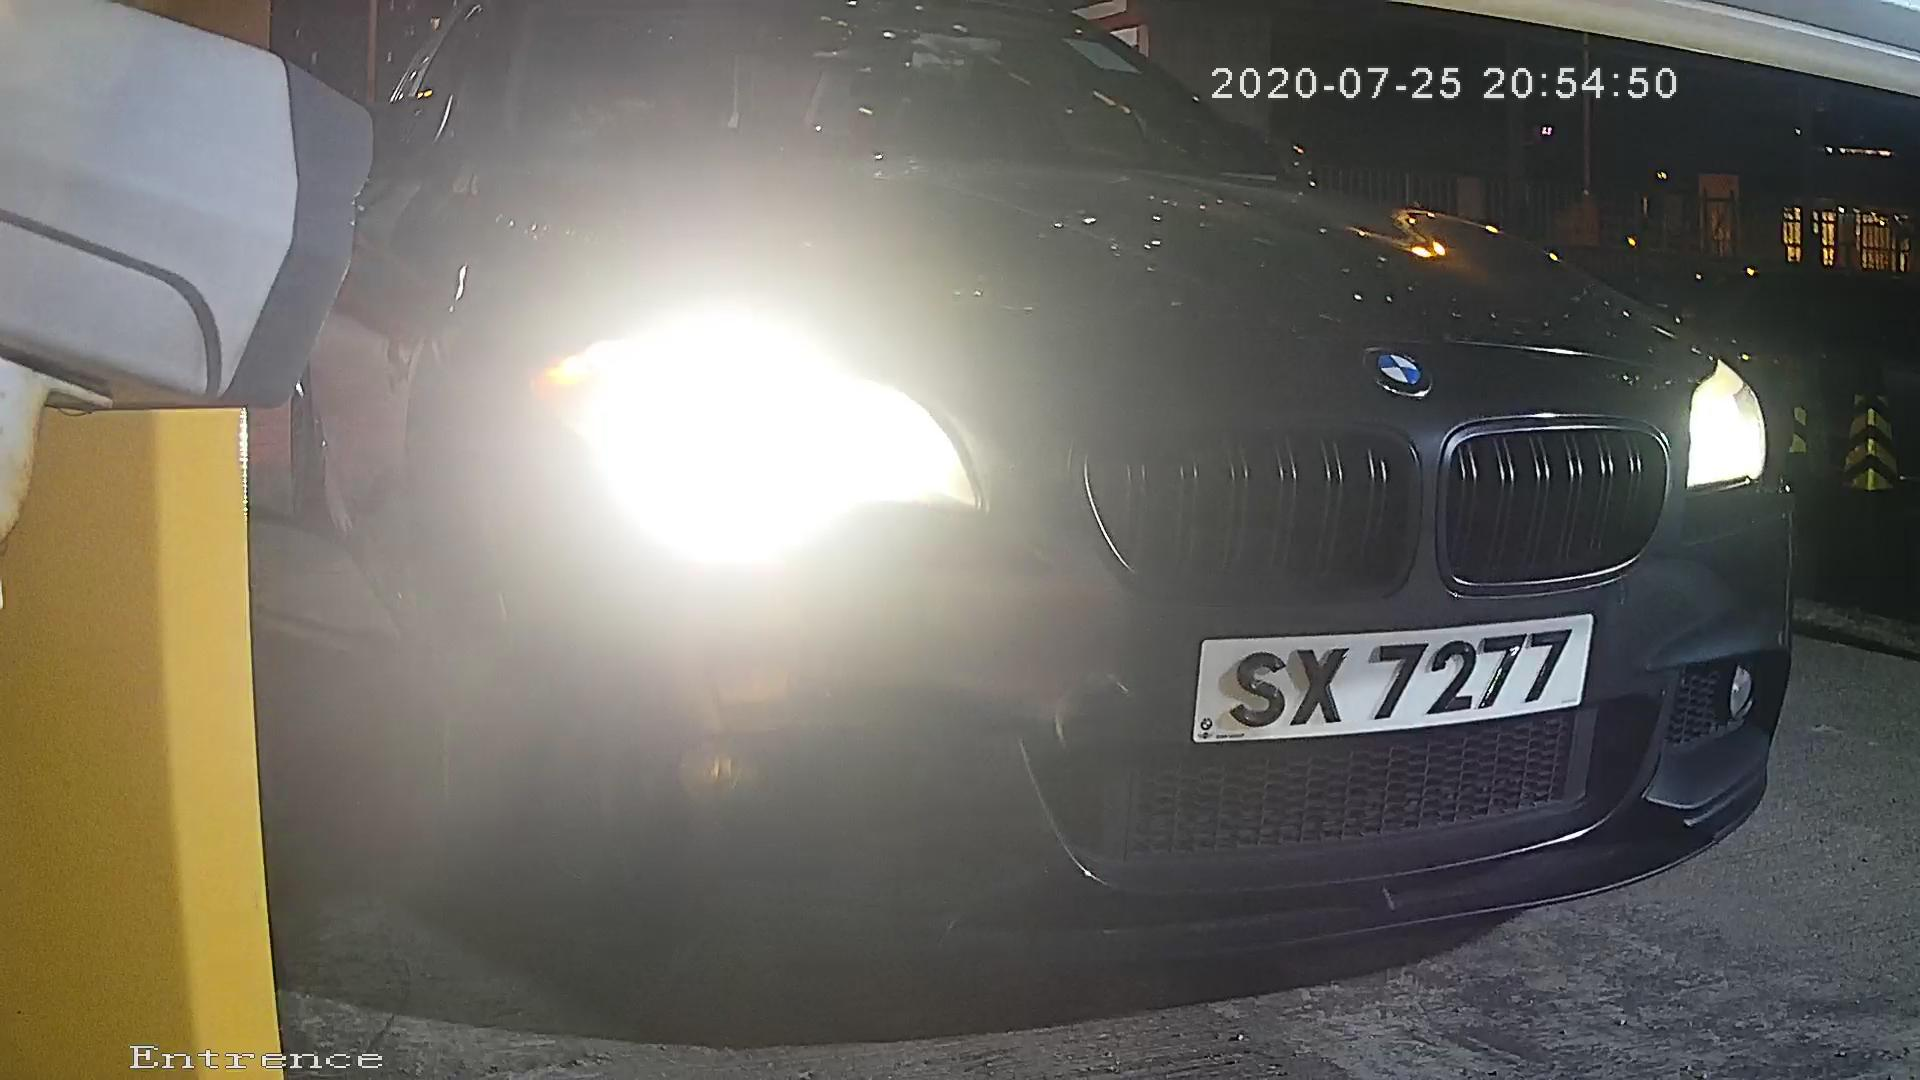Car: (112, 1, 1861, 994)
License Plate: (1158, 594, 1620, 757)
